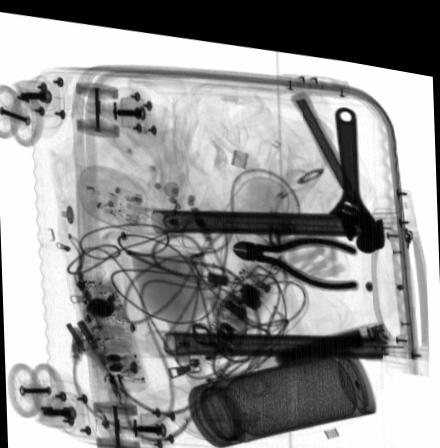Hammer: (288, 78, 381, 240)
Pliers: (231, 224, 358, 280)
Powerbank: (272, 307, 393, 361)
Wrench: (327, 93, 373, 233)
